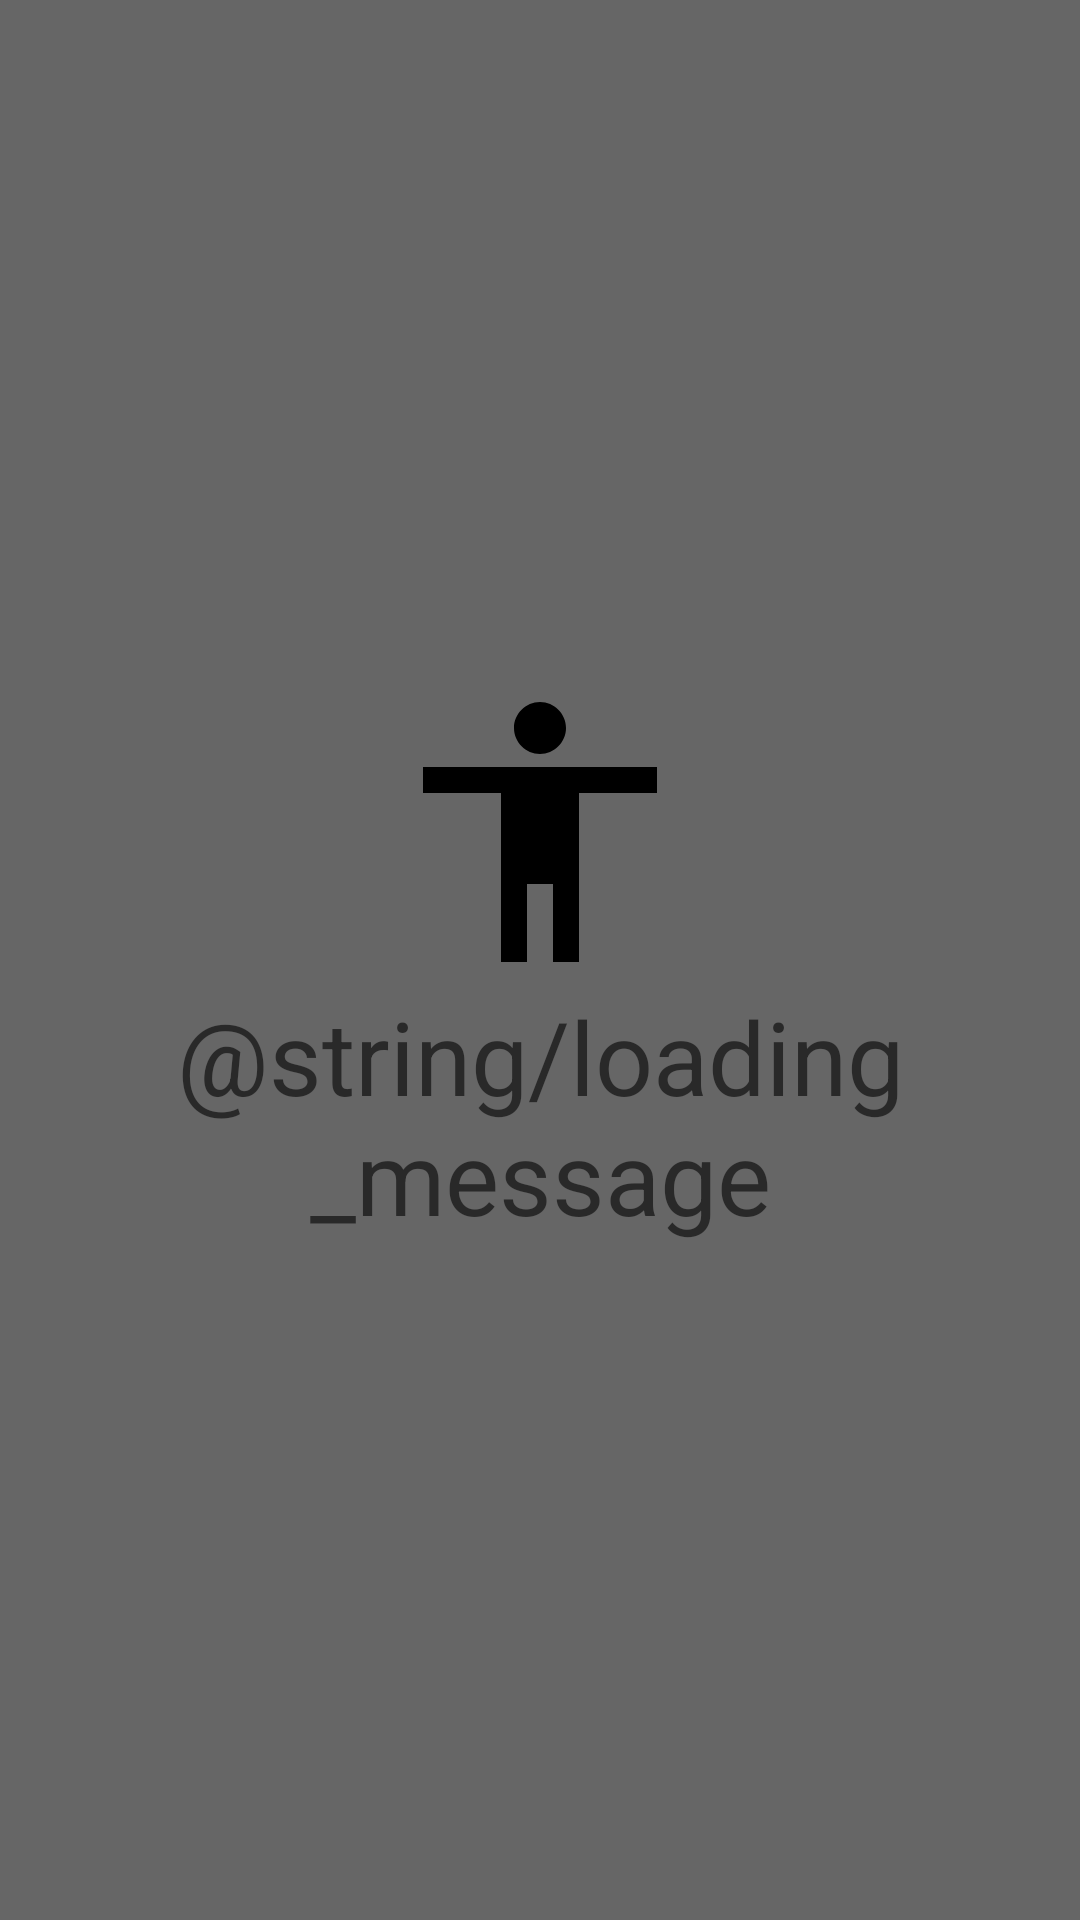

Where icons sit on this 1080x1920 app screen, as (x1=x1, y1=y1, x2=x2, y2=y2):
accessibility: (x1=423, y1=702, x2=657, y2=962)
